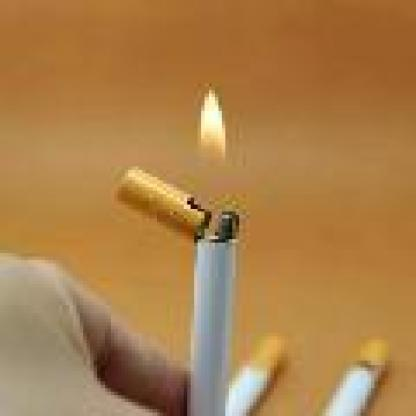Fire: (201, 90, 222, 160)
